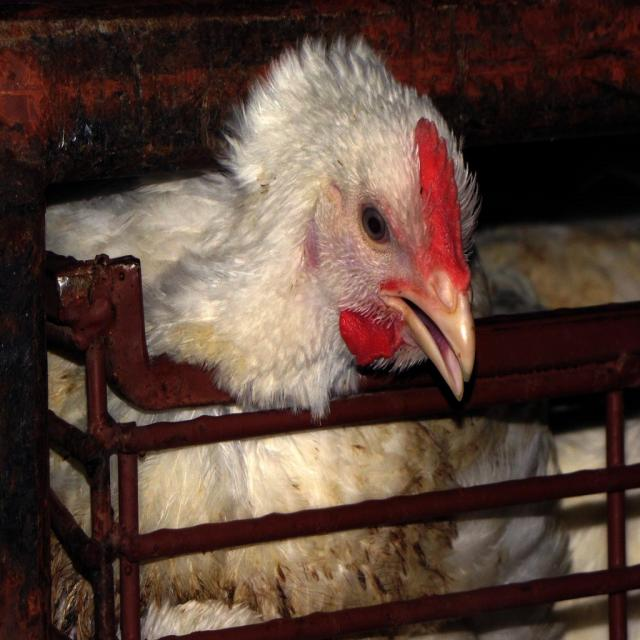Chicken: (356, 28, 569, 640)
